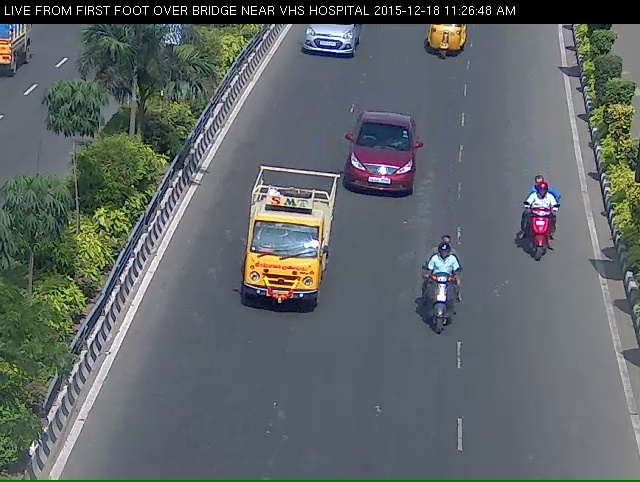Car: (225, 178, 334, 357), (337, 112, 424, 218), (292, 23, 361, 71), (418, 24, 474, 74)
Person: (412, 264, 471, 366), (519, 190, 564, 282)
